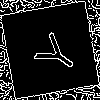Y: (25, 25, 82, 79)
